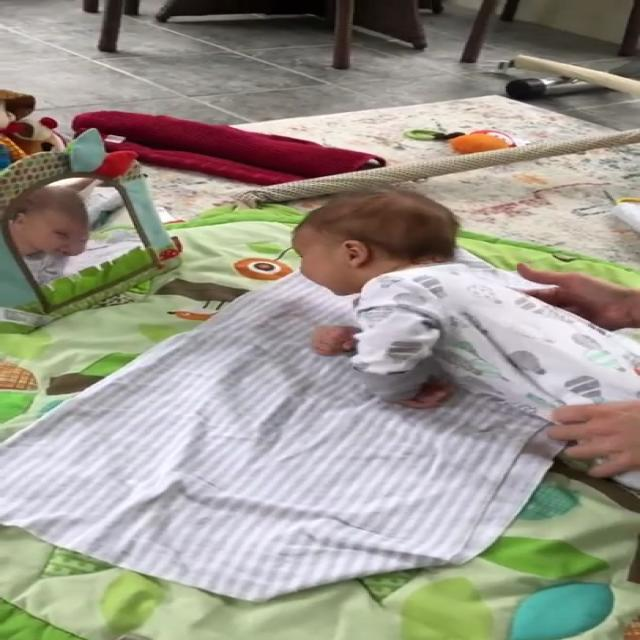baby: (288, 186, 640, 492)
